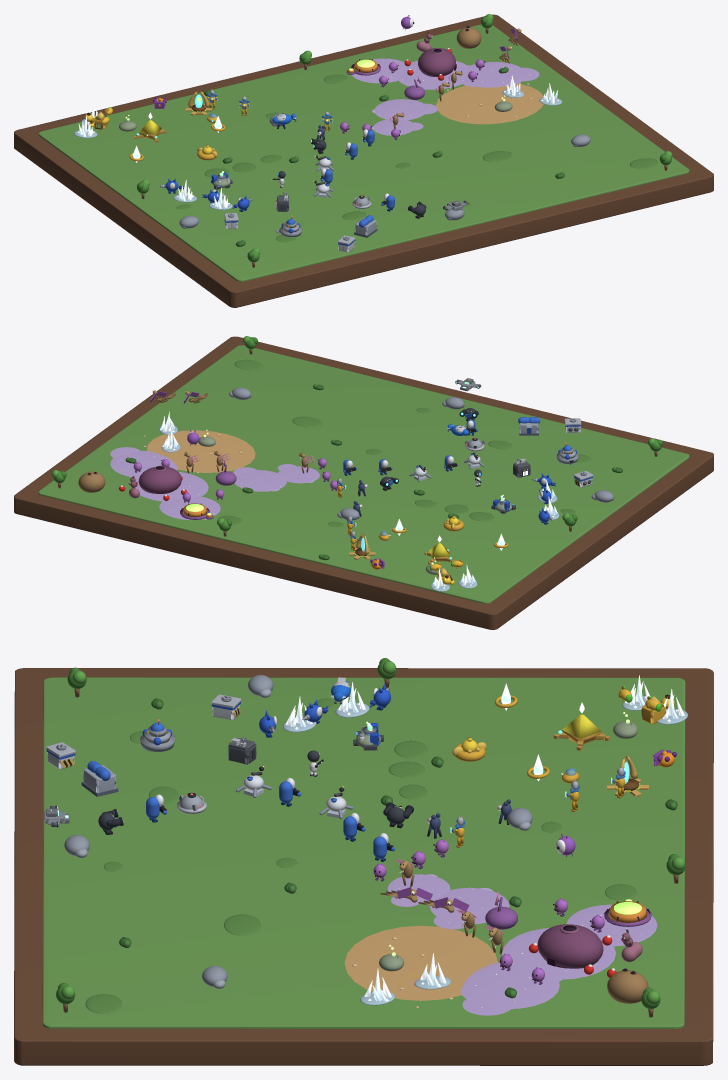
The model's file is starcrafts_battle.glb.
3 views of the same model, one above another, from view 1: azimuth 30°, elevation 25°; view 2: azimuth 150°, elevation 25°; view 3: azimuth 270°, elevation 25° (orthographic). The views are drawn at different scales.
Parts seen in each view (by area): view 1: ground_grass, ground_cliff, sand_0, ec_c0.001, ec_c0, ec_c0.003, ha_dome, ec_c0.002, ec_c0.004; view 2: ground_grass, ground_cliff, sand_0, ec_c0.001, ha_dome, ec_c0, ec_c0.003, ec_c0.002, ec_c0.004; view 3: ground_grass, ground_cliff, sand_0, ec_c0.001, ha_dome, ec_c0, ec_c0.003, ec_c0.002, ec_dome, ec_c0.004.
Part boxes in pixels (x1=…): ground_grass: x1=38, y1=24, x2=689, y2=281; ground_cliff: x1=14, y1=14, x2=713, y2=307; sand_0: x1=436, y1=83, x2=543, y2=124; ec_c0.001: x1=462, y1=61, x2=522, y2=87; ec_c0: x1=398, y1=60, x2=467, y2=89; ec_c0.003: x1=374, y1=99, x2=424, y2=120; ha_dome: x1=418, y1=48, x2=455, y2=76; ec_c0.002: x1=352, y1=58, x2=406, y2=83; ec_c0.004: x1=373, y1=119, x2=412, y2=135; ground_grass: x1=38, y1=345, x2=689, y2=603; ground_cliff: x1=14, y1=336, x2=713, y2=629; sand_0: x1=147, y1=430, x2=255, y2=472; ec_c0.001: x1=110, y1=450, x2=177, y2=477; ha_dome: x1=138, y1=466, x2=181, y2=493; ec_c0: x1=134, y1=471, x2=208, y2=501; ec_c0.003: x1=234, y1=470, x2=286, y2=491; ec_c0.002: x1=159, y1=496, x2=220, y2=520; ec_c0.004: x1=278, y1=466, x2=319, y2=483; ground_grass: x1=42, y1=677, x2=685, y2=1028; ground_cliff: x1=14, y1=668, x2=713, y2=1065; sand_0: x1=344, y1=925, x2=497, y2=1000; ec_c0.001: x1=460, y1=962, x2=559, y2=1008; ha_dome: x1=537, y1=924, x2=603, y2=968; ec_c0: x1=502, y1=928, x2=615, y2=979; ec_c0.003: x1=429, y1=887, x2=509, y2=923; ec_c0.002: x1=566, y1=904, x2=657, y2=946; ec_dome: x1=607, y1=970, x2=648, y2=1003; ec_c0.004: x1=387, y1=874, x2=450, y2=902.
Size of the model in its own units: 38.5 by 6.28 by 30.5.
